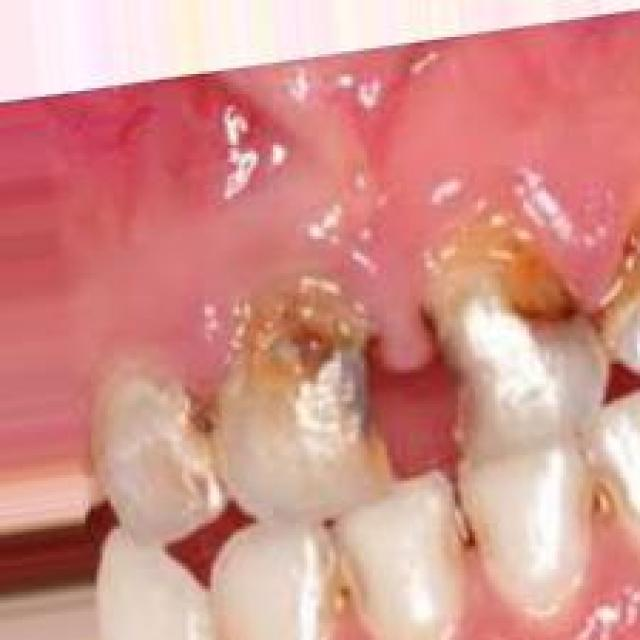caries: (205, 278, 395, 494), (419, 216, 589, 447), (138, 367, 233, 457), (589, 208, 640, 347), (305, 543, 381, 628), (578, 462, 637, 533)
